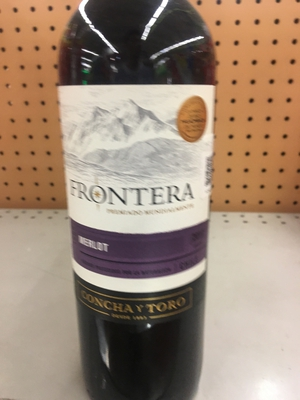frontera merlot: (56, 4, 214, 400)
